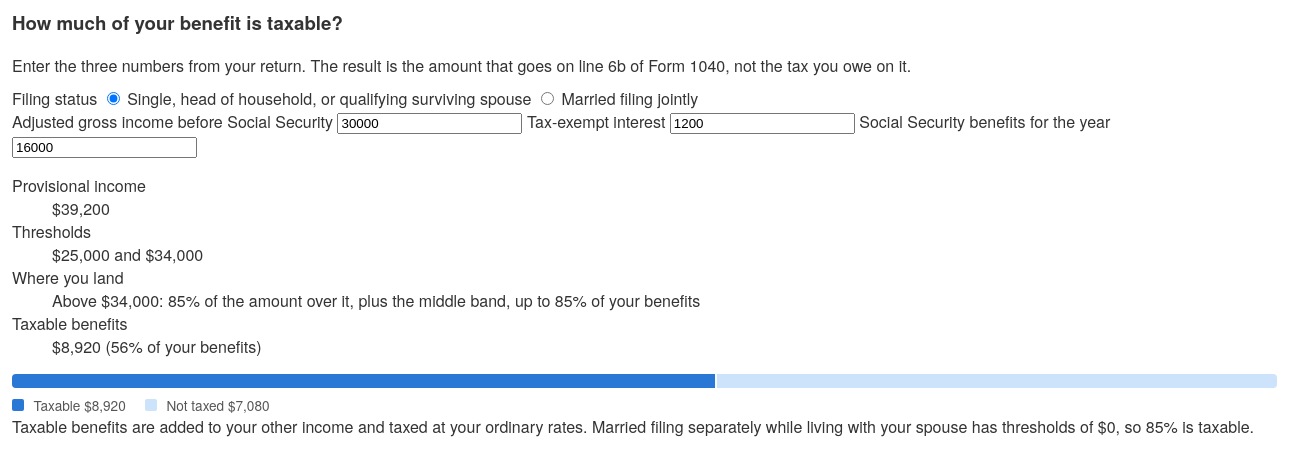
it: TaxableBenefitsCalculator › treats an emptied field as zero rather than breaking
The width and height of the screenshot is (1292, 454).
Clear the number field labelled "Social Security benefits for the year": (104, 148) [12,137,197,158]
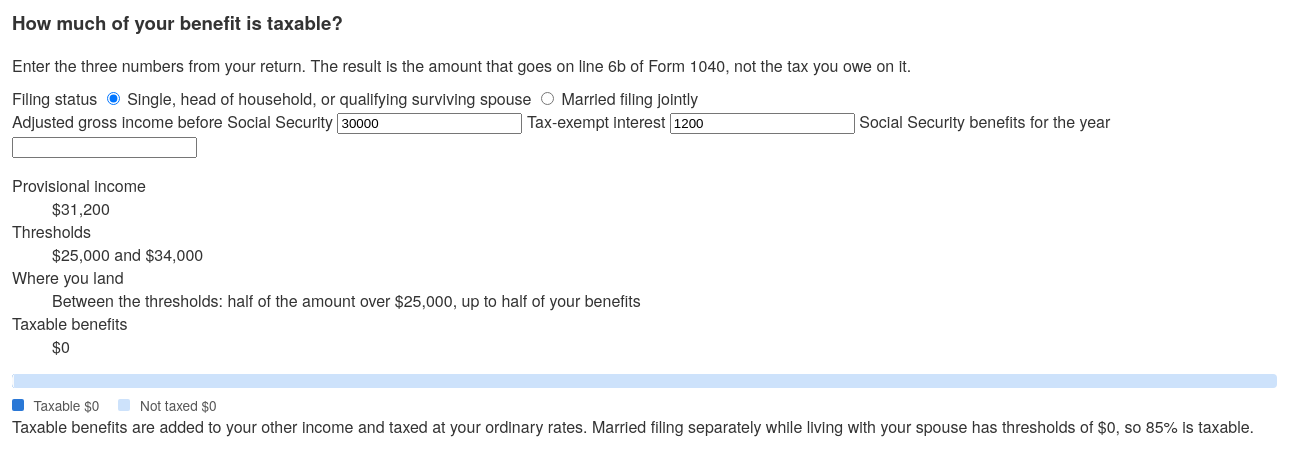
Expected: the element with class "widget-results" shows "$0", [52,335,70,358]
